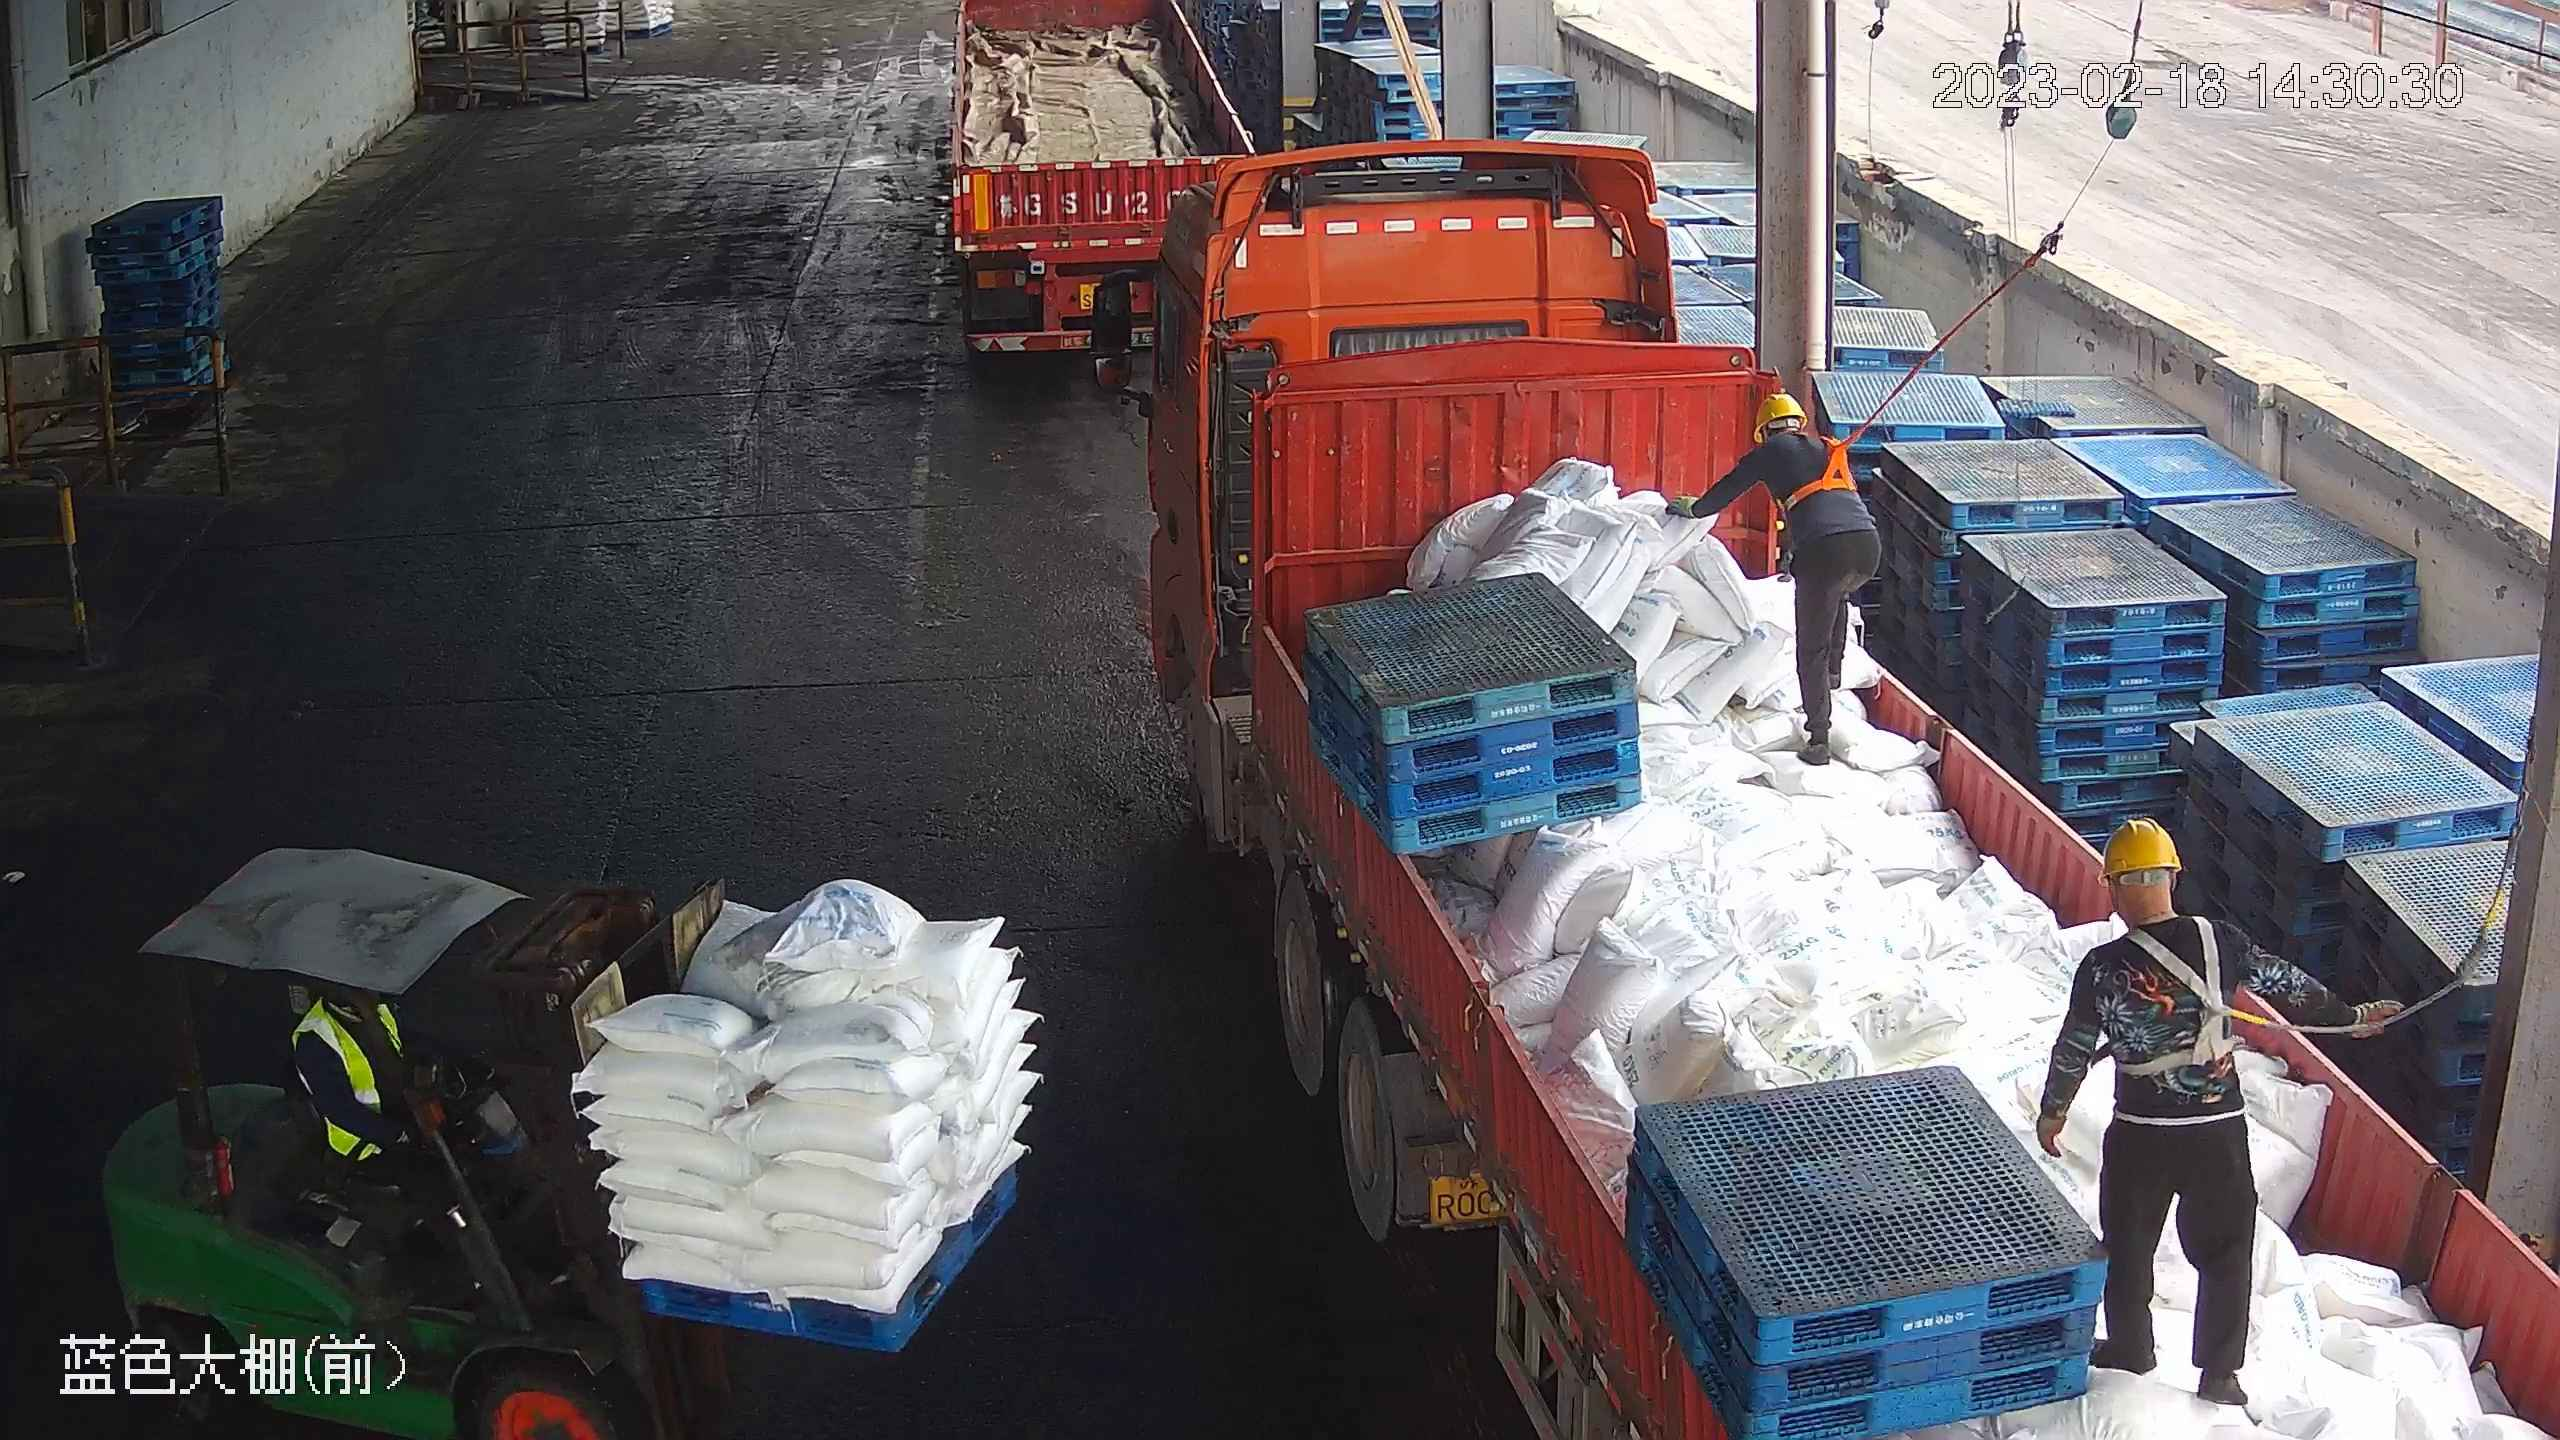belt: (2119, 918, 2263, 1085), (1771, 419, 1861, 506)
head: (2068, 814, 2242, 1006), (1745, 391, 1856, 489)
helmet: (2095, 814, 2184, 878), (1750, 388, 1807, 431)
people: (2029, 808, 2272, 1402), (1660, 378, 1881, 768), (285, 978, 504, 1301)
truck: (1077, 137, 2548, 1439), (933, 1, 1271, 373)
